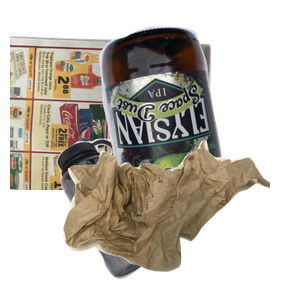glass: (97, 24, 300, 204)
paper: (10, 31, 214, 211)
plastic: (54, 136, 209, 300)
trash: (60, 138, 300, 300)
